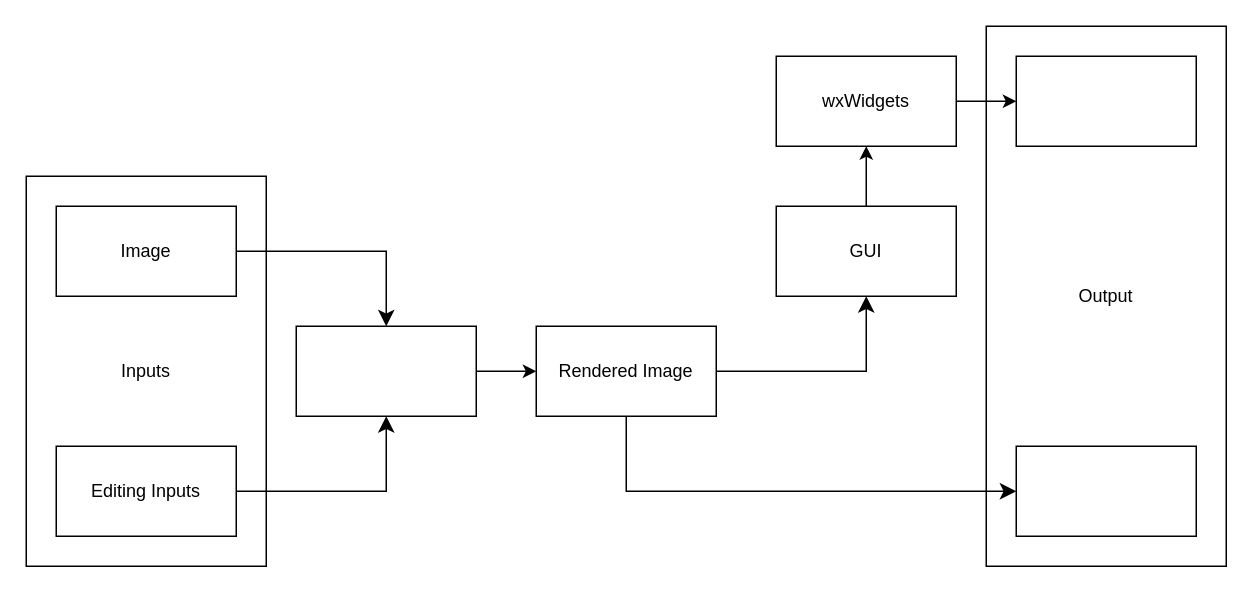
The diagram is 1253 pixels wide and 593 high, and some of its shapes have lost their labels. The centre of each missing label's shape, as x and y in pixels:
Display: point 1105,100
File: point 1105,490
Image Renderer: point 385,370
